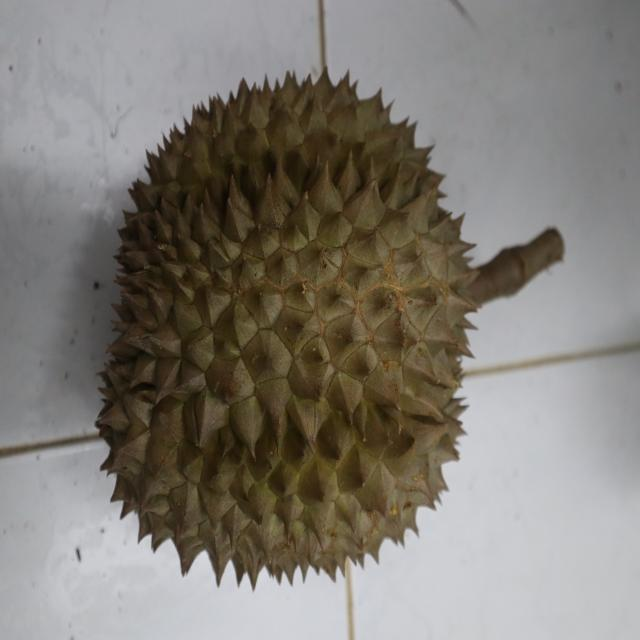mature: (93, 67, 477, 594)
